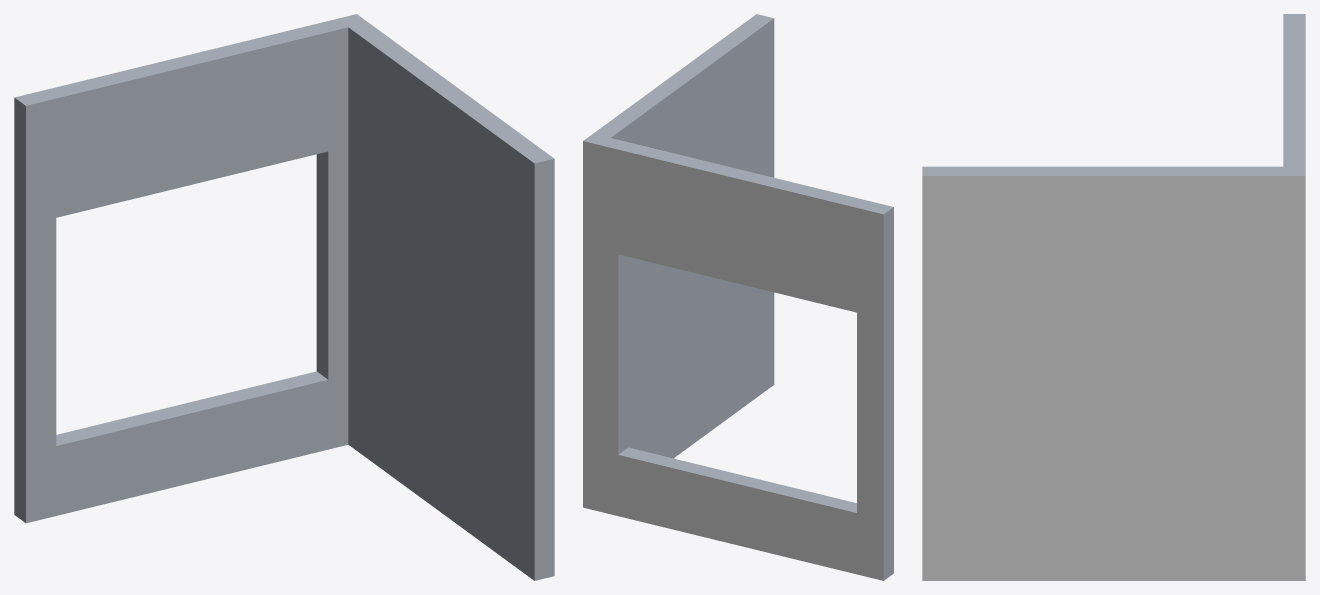
The model's file is Wall1_C5_13.fbx.
3 views of the same model, side by side, from view 1: azimuth 30°, elevation 25°; view 2: azimuth 150°, elevation 25°; view 3: azimuth 270°, elevation 25° (orthographic). The views are drawn at different scales.
Visible parts, largest first — view 1: Wall1_C5_13; view 2: Wall1_C5_13; view 3: Wall1_C5_13.
Part boxes in pixels (x1,y1,x2,y2): Wall1_C5_13: [14, 14, 554, 580]; Wall1_C5_13: [583, 14, 893, 580]; Wall1_C5_13: [922, 14, 1305, 580].
Size of the model in its own units: 258 by 300 by 258.
